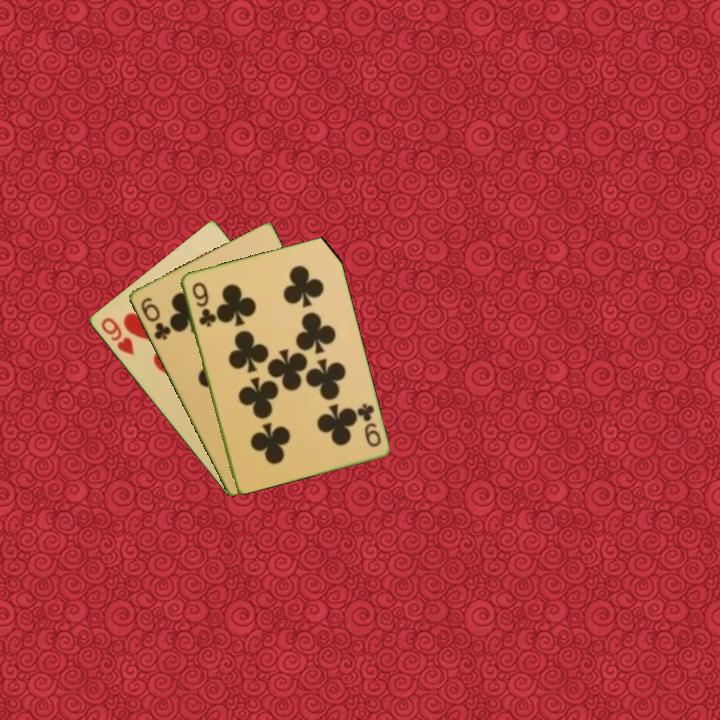6c: (137, 294, 174, 343)
9c: (353, 400, 384, 450), (188, 278, 217, 330)
9h: (97, 314, 137, 358)
